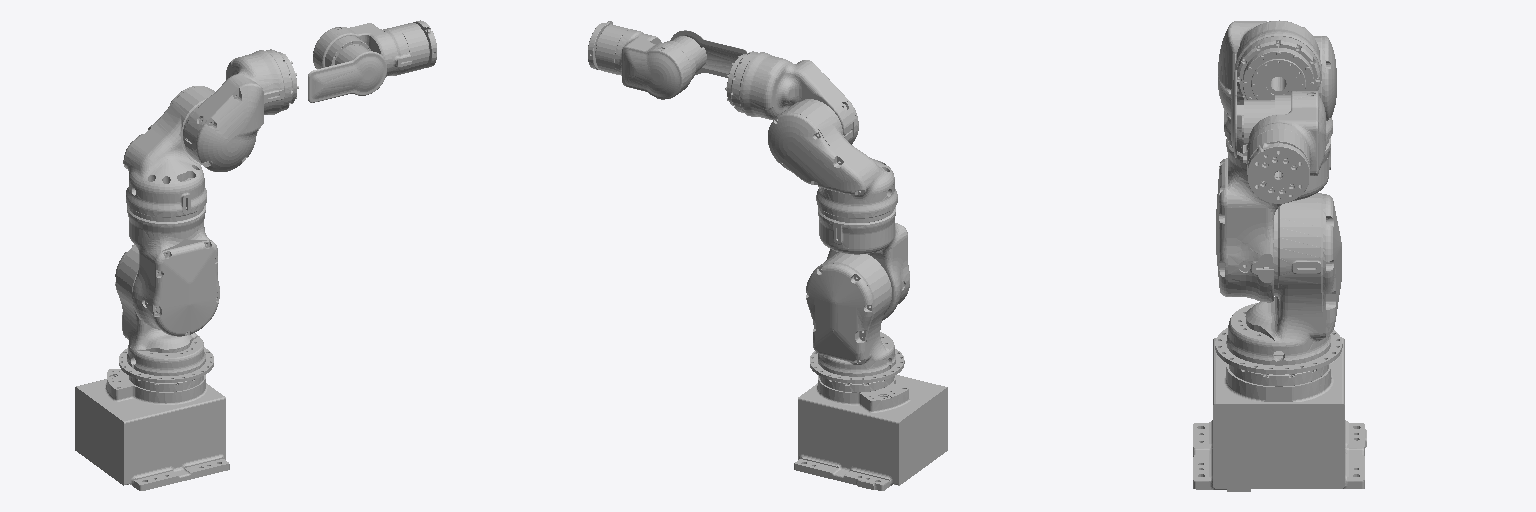
The robot description file, URDF, robot "robot":
<robot
  name="">
  <link name="world">
    <origin xyz="0 0 0" rpy="0 0 0"/>
  </link>
  <joint 
    name="world-base"
    type="fixed">
    <origin xyz="0 0 0" rpy="-1.57 0 0"/>
    <parent link="world" />
    <child link="Base"/>
  </joint>
  <link
    name="Base">
    <inertial>
      <origin
        xyz="0 -0.38593 0.00038879"
        rpy="0 0 0" />
      <mass
        value="58.218" />
      <inertia
        ixx="2.6511"
        ixy="-1.1752"
        ixz="0.0028401"
        iyy="1.2594"
        iyz="0.0036428"
        izz="3.7367" />
    </inertial>
    <visual>
      <origin
        xyz="0 0 0"
        rpy="0 0 0" />
      <geometry>
        <mesh
          filename="package://sia5_description/meshes/Base.STL" />
      </geometry>
      <material
        name="">
        <color
          rgba="0.75294 0.75294 0.75294 1" />
      </material>
    </visual>
    <collision>
      <origin
        xyz="0 0 0"
        rpy="0 0 0" />
      <geometry>
        <mesh
          filename="package://sia5_description/meshes/Base.STL" />
      </geometry>
    </collision>
  </link>
  <link
    name="Link_S">
    <inertial>
      <origin
        xyz="0.0713429648957239 0.00038878770716122 0.0759347982352335"
        rpy="0 0 0" />
      <mass
        value="58.2182620260339" />
      <inertia
        ixx="2.65106884807954"
        ixy="0.00284009901475013"
        ixz="1.17517191095636"
        iyy="3.73671816977897"
        iyz="-0.00364279439952084"
        izz="1.2593903863305" />
    </inertial>
    <visual>
      <origin
        xyz="0 0 0"
        rpy="0 0 0" />
      <geometry>
        <mesh
          filename="package://sia5_description/meshes/Link_S.STL" />
      </geometry>
      <material
        name="">
        <color
          rgba="0.752941176470588 0.752941176470588 0.752941176470588 1" />
      </material>
    </visual>
    <collision>
      <origin
        xyz="0 0 0"
        rpy="0 0 0" />
      <geometry>
        <mesh
          filename="package://sia5_description/meshes/Link_S.STL" />
      </geometry>
    </collision>
  </link>
  <joint
    name="joint_S"
    type="revolute">
    <origin
      xyz="0 -0.31 0"
      rpy="1.5708 0 0" />
    <parent
      link="Base" />
    <child
      link="Link_S" />
    <axis
      xyz="0 0 -1" />
    <limit
      lower="-3.1416"
      upper="3.1416"
      effort="0"
      velocity="3.490658504" />
    <calibration
      rising="0"
      falling="0" />
    <dynamics
      damping="0"
      friction="0" />
    <safety_controller
      soft_lower_limit="0"
      soft_upper_limit="0"
      k_position="0"
      k_velocity="0" />
  </joint>
  <link
    name="Link_L">
    <inertial>
      <origin
        xyz="0.0713429648957239 0.000388787707161235 0.0759347982352335"
        rpy="0 0 0" />
      <mass
        value="58.2182620260339" />
      <inertia
        ixx="2.65106884807954"
        ixy="0.00284009901475013"
        ixz="1.17517191095636"
        iyy="3.73671816977897"
        iyz="-0.00364279439952084"
        izz="1.2593903863305" />
    </inertial>
    <visual>
      <origin
        xyz="0 0 0"
        rpy="0 0 0" />
      <geometry>
        <mesh
          filename="package://sia5_description/meshes/Link_L.STL" />
      </geometry>
      <material
        name="">
        <color
          rgba="0.752941176470588 0.752941176470588 0.752941176470588 1" />
      </material>
    </visual>
    <collision>
      <origin
        xyz="0 0 0"
        rpy="0 0 0" />
      <geometry>
        <mesh
          filename="package://sia5_description/meshes/Link_L.STL" />
      </geometry>
    </collision>
  </link>
  <joint
    name="joint_L"
    type="revolute">
    <origin
      xyz="0 0 0"
      rpy="0 0 0" />
    <parent
      link="Link_S" />
    <child
      link="Link_L" />
    <axis
      xyz="0 -1 0" />
    <limit
      lower="-1.9199"
      upper="1.9199"
      effort="0"
      velocity="3.490658504" />
    <calibration
      rising="0"
      falling="0" />
    <dynamics
      damping="0"
      friction="0" />
    <safety_controller
      soft_lower_limit="0"
      soft_upper_limit="0"
      k_position="0"
      k_velocity="0" />
  </joint>
  <link
    name="Link_E">
    <inertial>
      <origin
        xyz="0.0713429648957236 0.000388787707160796 -0.194065201764766"
        rpy="0 0 0" />
      <mass
        value="58.2182620260339" />
      <inertia
        ixx="2.65106884807954"
        ixy="0.00284009901475013"
        ixz="1.17517191095636"
        iyy="3.73671816977897"
        iyz="-0.00364279439952084"
        izz="1.2593903863305" />
    </inertial>
    <visual>
      <origin
        xyz="0 0 0"
        rpy="0 0 0" />
      <geometry>
        <mesh
          filename="package://sia5_description/meshes/Link_E.STL" />
      </geometry>
      <material
        name="">
        <color
          rgba="0.752941176470588 0.752941176470588 0.752941176470588 1" />
      </material>
    </visual>
    <collision>
      <origin
        xyz="0 0 0"
        rpy="0 0 0" />
      <geometry>
        <mesh
          filename="package://sia5_description/meshes/Link_E.STL" />
      </geometry>
    </collision>
  </link>
  <joint
    name="joint_E"
    type="revolute">
    <origin
      xyz="0 0 0.27"
      rpy="0 0 0" />
    <parent
      link="Link_L" />
    <child
      link="Link_E" />
    <axis
      xyz="0 0 -1" />
    <limit
      lower="-2.9671"
      upper="2.9671"
      effort="0"
      velocity="3.490658504" />
    <calibration
      rising="0"
      falling="0" />
    <dynamics
      damping="0"
      friction="0" />
    <safety_controller
      soft_lower_limit="0"
      soft_upper_limit="0"
      k_position="0"
      k_velocity="0" />
  </joint>
  <link
    name="Link_U">
    <inertial>
      <origin
        xyz="-0.0136570350302764 0.000388787707160791 -0.194065201764766"
        rpy="0 0 0" />
      <mass
        value="58.2182620260339" />
      <inertia
        ixx="2.65106884807954"
        ixy="0.00284009901475013"
        ixz="1.17517191095636"
        iyy="3.73671816977897"
        iyz="-0.00364279439952084"
        izz="1.2593903863305" />
    </inertial>
    <visual>
      <origin
        xyz="0 0 0"
        rpy="0 0 0" />
      <geometry>
        <mesh
          filename="package://sia5_description/meshes/Link_U.STL" />
      </geometry>
      <material
        name="">
        <color
          rgba="0.752941176470588 0.752941176470588 0.752941176470588 1" />
      </material>
    </visual>
    <collision>
      <origin
        xyz="0 0 0"
        rpy="0 0 0" />
      <geometry>
        <mesh
          filename="package://sia5_description/meshes/Link_U.STL" />
      </geometry>
    </collision>
  </link>
  <joint
    name="joint_U"
    type="revolute">
    <origin
      xyz="0.085 0 0"
      rpy="0 0 0" />
    <parent
      link="Link_E" />
    <child
      link="Link_U" />
    <axis
      xyz="0 1 0" />
    <limit
      lower="-1.5708"
      upper="2.0071"
      effort="0"
      velocity="3.490658504" />
    <calibration
      rising="0"
      falling="0" />
    <dynamics
      damping="0"
      friction="0" />
    <safety_controller
      soft_lower_limit="0"
      soft_upper_limit="0"
      k_position="0"
      k_velocity="0" />
  </joint>
  <link
    name="Link_R">
    <inertial>
      <origin
        xyz="-0.283657035030276 0.000388787707160985 -0.254065201652766"
        rpy="0 0 0" />
      <mass
        value="58.2182620260339" />
      <inertia
        ixx="2.65106884807954"
        ixy="0.00284009901475013"
        ixz="1.17517191095636"
        iyy="3.73671816977897"
        iyz="-0.00364279439952084"
        izz="1.2593903863305" />
    </inertial>
    <visual>
      <origin
        xyz="0 0 0"
        rpy="0 0 0" />
      <geometry>
        <mesh
          filename="package://sia5_description/meshes/Link_R.STL" />
      </geometry>
      <material
        name="">
        <color
          rgba="0.752941176470588 0.752941176470588 0.752941176470588 1" />
      </material>
    </visual>
    <collision>
      <origin
        xyz="0 0 0"
        rpy="0 0 0" />
      <geometry>
        <mesh
          filename="package://sia5_description/meshes/Link_R.STL" />
      </geometry>
    </collision>
  </link>
  <joint
    name="joint_R"
    type="revolute">
    <origin
      xyz="0.27 0 0.06"
      rpy="0 0 0" />
    <parent
      link="Link_U" />
    <child
      link="Link_R" />
    <axis
      xyz="-1 0 0" />
    <limit
      lower="-3.1416"
      upper="3.1416"
      effort="0"
      velocity="3.490658504" />
    <calibration
      rising="0"
      falling="0" />
    <dynamics
      damping="0"
      friction="0" />
    <safety_controller
      soft_lower_limit="0"
      soft_upper_limit="0"
      k_position="0"
      k_velocity="0" />
  </joint>
  <link
    name="Link_B">
    <inertial>
      <origin
        xyz="-0.283657035030276 0.000388787707160985 -0.254065201652766"
        rpy="0 0 0" />
      <mass
        value="58.2182620260339" />
      <inertia
        ixx="2.65106884807954"
        ixy="0.00284009901475013"
        ixz="1.17517191095636"
        iyy="3.73671816977897"
        iyz="-0.00364279439952084"
        izz="1.2593903863305" />
    </inertial>
    <visual>
      <origin
        xyz="0 0 0"
        rpy="0 0 0" />
      <geometry>
        <mesh
          filename="package://sia5_description/meshes/Link_B.STL" />
      </geometry>
      <material
        name="">
        <color
          rgba="0.752941176470588 0.752941176470588 0.752941176470588 1" />
      </material>
    </visual>
    <collision>
      <origin
        xyz="0 0 0"
        rpy="0 0 0" />
      <geometry>
        <mesh
          filename="package://sia5_description/meshes/Link_B.STL" />
      </geometry>
    </collision>
  </link>
  <joint
    name="joint_B"
    type="revolute">
    <origin
      xyz="0 0 0"
      rpy="0 0 0" />
    <parent
      link="Link_R" />
    <child
      link="Link_B" />
    <axis
      xyz="0 -1 0" />
    <limit
      lower="-1.9199"
      upper="1.9199"
      effort="0"
      velocity="4.01425728" />
    <calibration
      rising="0"
      falling="0" />
    <dynamics
      damping="0"
      friction="0" />
    <safety_controller
      soft_lower_limit="0"
      soft_upper_limit="0"
      k_position="0"
      k_velocity="0" />
  </joint>
  <link
    name="Link_T">
    <inertial>
      <origin
        xyz="-0.417657035030276 0.000388787707160985 -0.254065201652766"
        rpy="0 0 0" />
      <mass
        value="58.2182620260339" />
      <inertia
        ixx="2.65106884807954"
        ixy="0.00284009901475013"
        ixz="1.17517191095636"
        iyy="3.73671816977897"
        iyz="-0.00364279439952084"
        izz="1.2593903863305" />
    </inertial>
    <visual>
      <origin
        xyz="0 0 0"
        rpy="0 0 0" />
      <geometry>
        <mesh
          filename="package://sia5_description/meshes/Link_T.STL" />
      </geometry>
      <material
        name="">
        <color
          rgba="0.752941176470588 0.752941176470588 0.752941176470588 1" />
      </material>
    </visual>
    <collision>
      <origin
        xyz="0 0 0"
        rpy="0 0 0" />
      <geometry>
        <mesh
          filename="package://sia5_description/meshes/Link_T.STL" />
      </geometry>
    </collision>
  </link>
  <joint
    name="joint_T"
    type="revolute">
    <origin
      xyz="0.134 0 0"
      rpy="0 0 0" />
    <parent
      link="Link_B" />
    <child
      link="Link_T" />
    <axis
      xyz="1 0 0" />
    <limit
      lower="-3.1416"
      upper="3.1416"
      effort="0"
      velocity="6.108652382" />
    <calibration
      rising="0"
      falling="0" />
    <dynamics
      damping="0"
      friction="0" />
    <safety_controller
      soft_lower_limit="0"
      soft_upper_limit="0"
      k_position="0"
      k_velocity="0" />
  </joint>
</robot>

--- Facts derived from the render (not from the file) ---
The picture shows the robot from 3 angles, left to right: view 1: azimuth 30°, elevation 25°; view 2: azimuth 150°, elevation 25°; view 3: azimuth 270°, elevation 25°; orthographic projection.
Robot: robot — 9 links, 8 joints (7 revolute, 1 fixed); root link world; default pose: all joints at 0.
Visible links, largest first — view 1: Base, Link_L, Link_U, Link_E, Link_S, Link_R, Link_B; view 2: Base, Link_S, Link_E, Link_U, Link_B, Link_L, Link_R; view 3: Base, Link_S, Link_L, Link_U, Link_B, Link_T, Link_R, Link_E.
Link boxes in pixels (<box>): Base: <box>75,369,229,490</box>; Link_L: <box>127,205,219,336</box>; Link_U: <box>184,49,298,171</box>; Link_E: <box>123,86,214,217</box>; Link_S: <box>115,244,213,382</box>; Link_R: <box>308,36,386,102</box>; Link_B: <box>313,23,429,76</box>; Base: <box>794,375,947,490</box>; Link_S: <box>806,252,904,383</box>; Link_E: <box>768,99,897,218</box>; Link_U: <box>725,51,858,144</box>; Link_B: <box>595,25,691,99</box>; Link_L: <box>818,207,909,320</box>; Link_R: <box>664,30,747,79</box>; Base: <box>1193,337,1366,491</box>; Link_S: <box>1215,193,1342,374</box>; Link_L: <box>1216,138,1330,302</box>; Link_U: <box>1218,20,1321,118</box>; Link_B: <box>1243,91,1325,189</box>; Link_T: <box>1248,142,1309,203</box>; Link_R: <box>1231,70,1290,157</box>; Link_E: <box>1224,36,1336,147</box>.
Bounding box of the posed robot: 0.6292 × 0.2175 × 0.6951 m (x, y, z).
8 mesh visuals loaded from 8 distinct referenced files (8 binary STL).